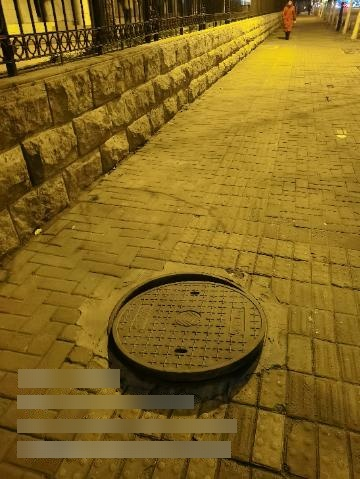well: (108, 269, 266, 382)
